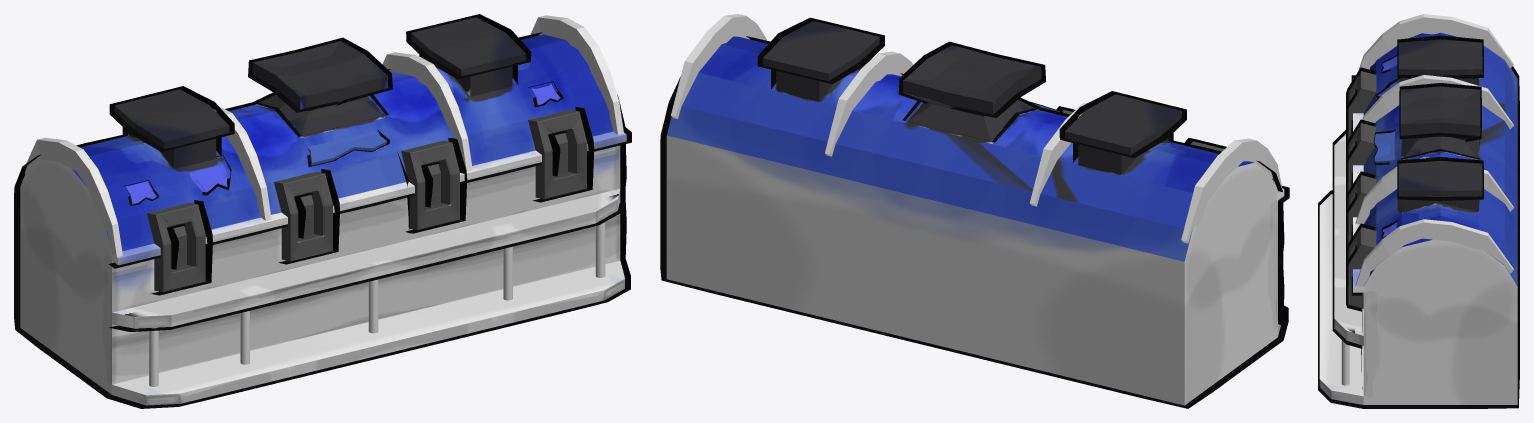
File: bluehouse.fbx
3 renders of one model, left to right at view 1: azimuth 30°, elevation 25°; view 2: azimuth 150°, elevation 25°; view 3: azimuth 270°, elevation 25°, orthographic. The views are drawn at different scales.
Parts seen in each view (by area): view 1: Cube.004, Cube.008, Cube.007, Cube.006, Cube.005, Cube.009, Cube.010, Cylinder_008.005, Cylinder_008.003, Cylinder_008.001, Cube.011; view 2: Cube.004, Cube.008, Cube.007, Cube.006, Cube.005; view 3: Cube.004, Cube.007, Cube.008, Cube.005, Cube.006, Cube.009, Cylinder_008.005, Cube.011.
Boxes of the visible parts, x1,y1,x2,y2 form: Cube.004: [14, 14, 631, 408]; Cube.008: [24, 137, 122, 256]; Cube.007: [530, 15, 623, 134]; Cube.006: [382, 52, 472, 171]; Cube.005: [214, 106, 271, 220]; Cube.009: [307, 129, 389, 166]; Cube.010: [189, 154, 231, 195]; Cylinder_008.005: [595, 218, 605, 277]; Cylinder_008.003: [368, 279, 378, 333]; Cylinder_008.001: [149, 327, 158, 386]; Cube.011: [123, 180, 158, 205]; Cube.004: [660, 17, 1289, 408]; Cube.008: [1181, 138, 1282, 243]; Cube.007: [671, 14, 767, 118]; Cube.006: [825, 51, 913, 156]; Cube.005: [1030, 103, 1087, 206]; Cube.004: [1318, 32, 1519, 408]; Cube.007: [1355, 219, 1513, 286]; Cube.008: [1358, 14, 1513, 70]; Cube.005: [1362, 75, 1513, 129]; Cube.006: [1355, 157, 1513, 224]; Cube.009: [1373, 130, 1395, 164]; Cylinder_008.005: [1341, 340, 1349, 385]; Cube.011: [1381, 55, 1397, 73].
Size of the model in its own units: 6423 by 2809 by 2554.
Materials: 6 (2 with a texture image).
